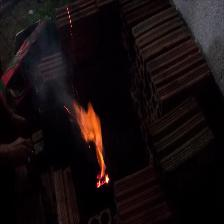fire: (60, 78, 118, 208)
